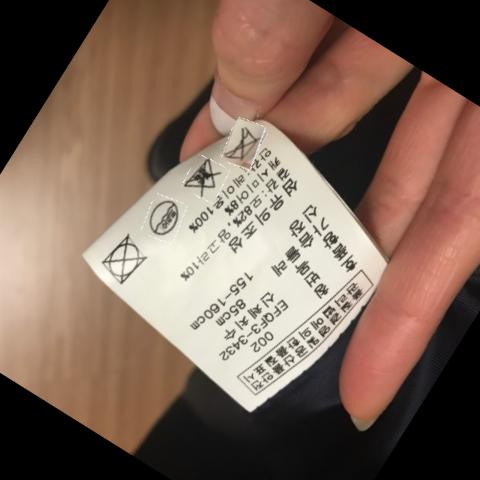DN_dry_clean: (148, 198, 185, 237)
DN_tumble_dry: (104, 238, 149, 282)
DN_wash: (226, 125, 263, 165)
non_chlorine_bleach: (185, 159, 218, 194)
